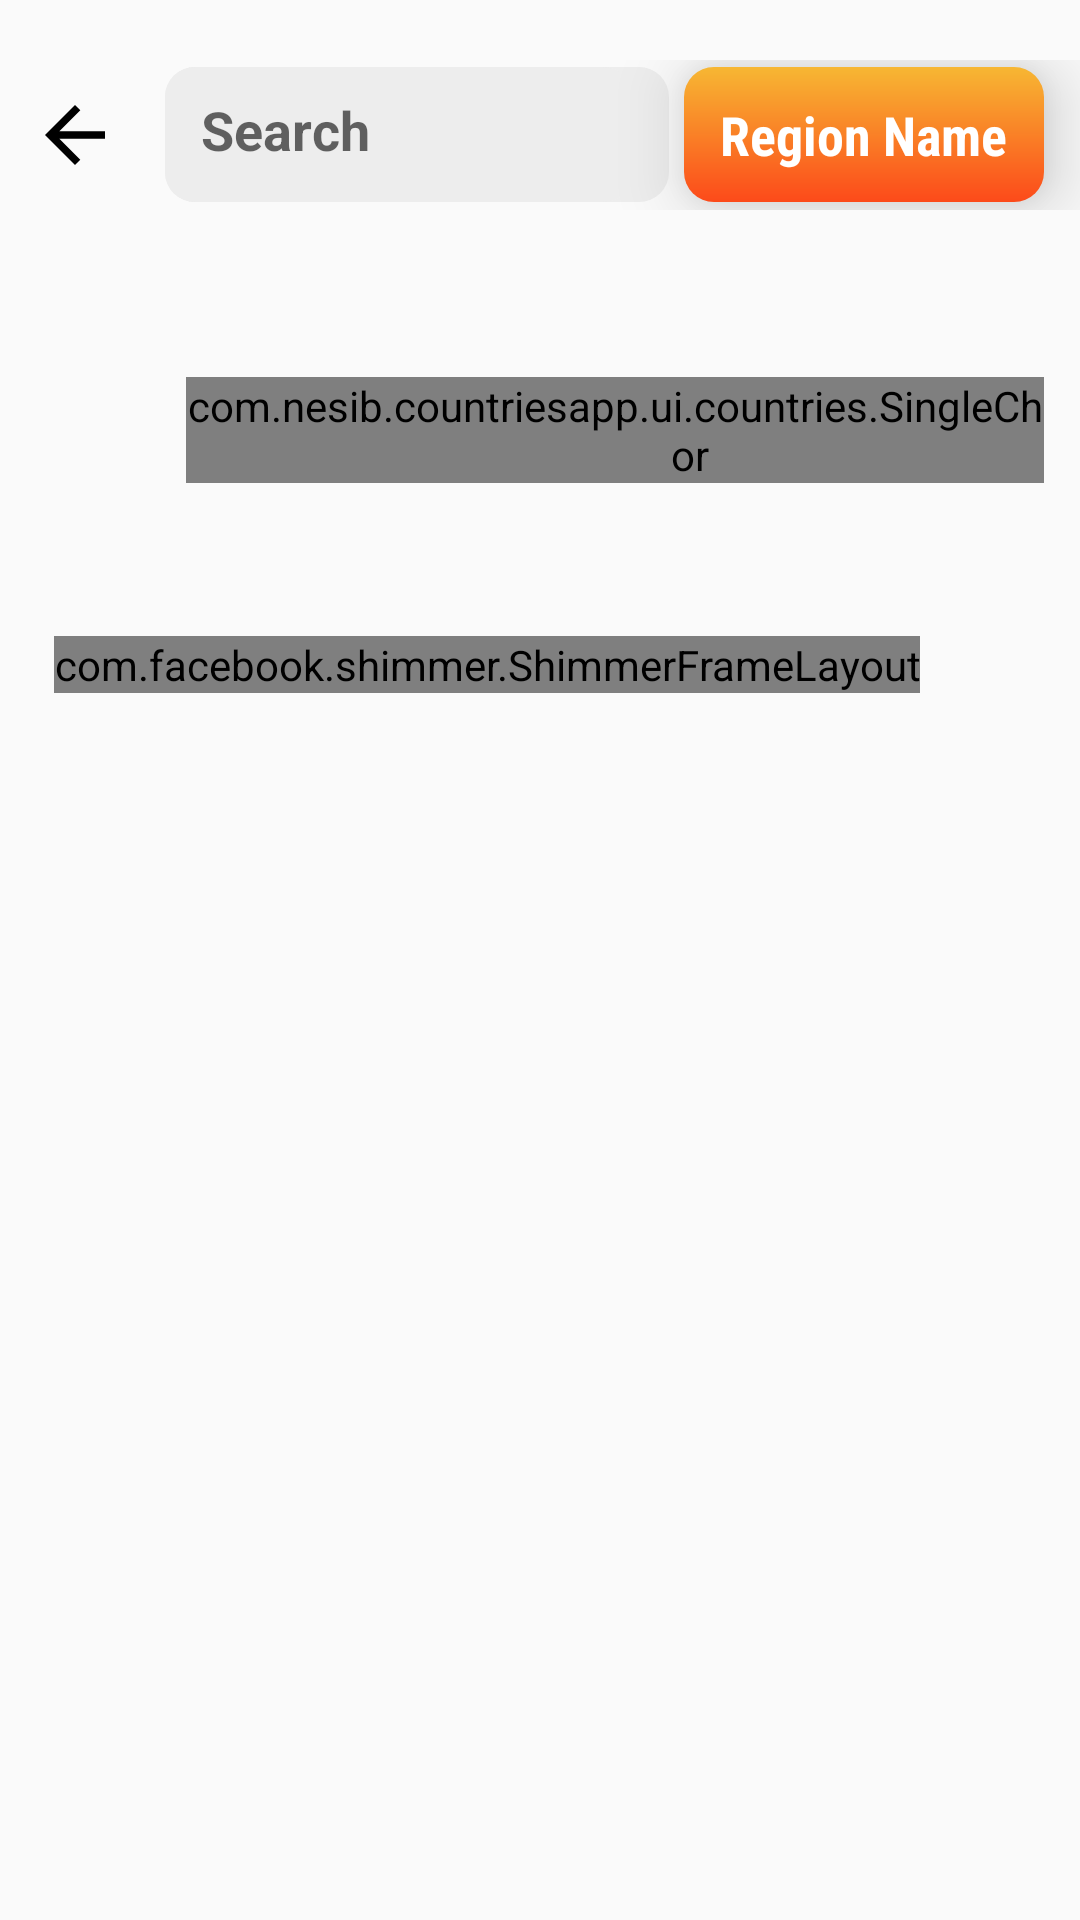

Icon bounding boxes for this 1080w x 1920h phone screenshot, format bbox=(x1, y1, x2, y2):
back: bbox=(45, 105, 105, 165)
